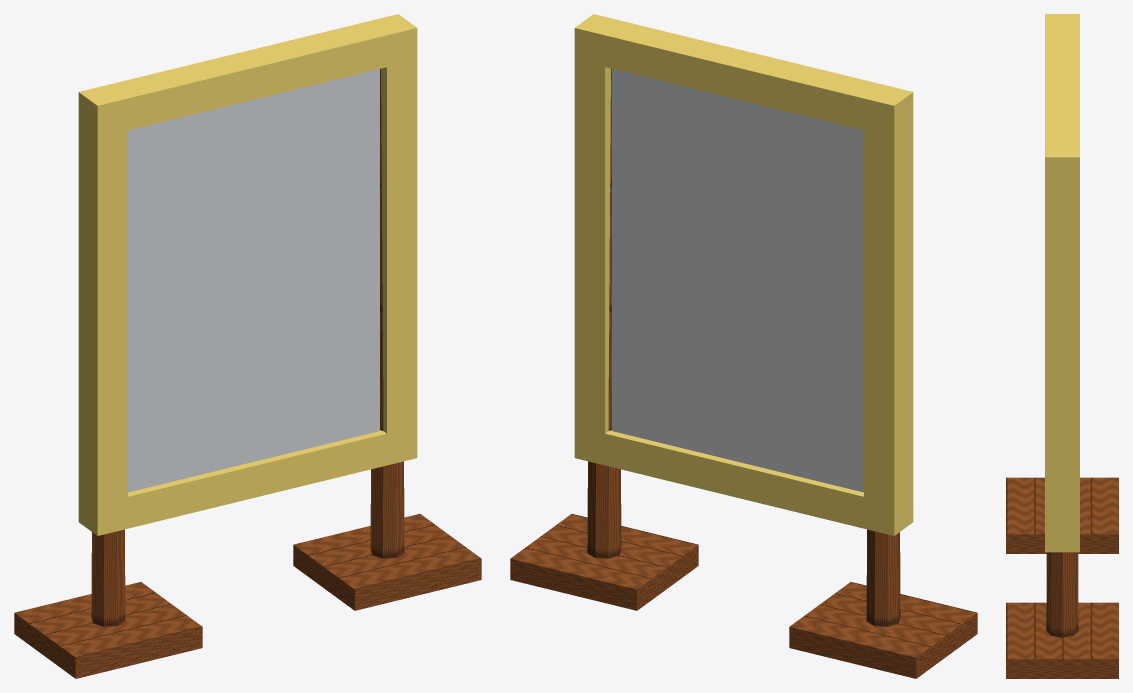
Rendered from travelling-circus-and-big-top-dressing-mirror-7e1958c0__36261.glb.
3 renders of one model, left to right at view 1: azimuth 30°, elevation 25°; view 2: azimuth 150°, elevation 25°; view 3: azimuth 270°, elevation 25°, orthographic. The views are drawn at different scales.
Visible parts, largest first — view 1: dressing-mirror-steel, dressing-mirror-gold, dressing-mirror-timber; view 2: dressing-mirror-steel, dressing-mirror-gold, dressing-mirror-timber; view 3: dressing-mirror-gold, dressing-mirror-timber.
Boxes of the visible parts, <box> form: dressing-mirror-steel: <box>128,69,379,492</box>; dressing-mirror-gold: <box>78,14,417,535</box>; dressing-mirror-timber: <box>14,68,481,678</box>; dressing-mirror-steel: <box>612,69,863,492</box>; dressing-mirror-gold: <box>574,14,913,535</box>; dressing-mirror-timber: <box>510,68,977,678</box>; dressing-mirror-gold: <box>1045,14,1079,552</box>; dressing-mirror-timber: <box>1006,477,1118,678</box>.
Size of the model in its own units: 1.6 by 2.06 by 0.4198.
Materials: 3 (1 with a texture image).
